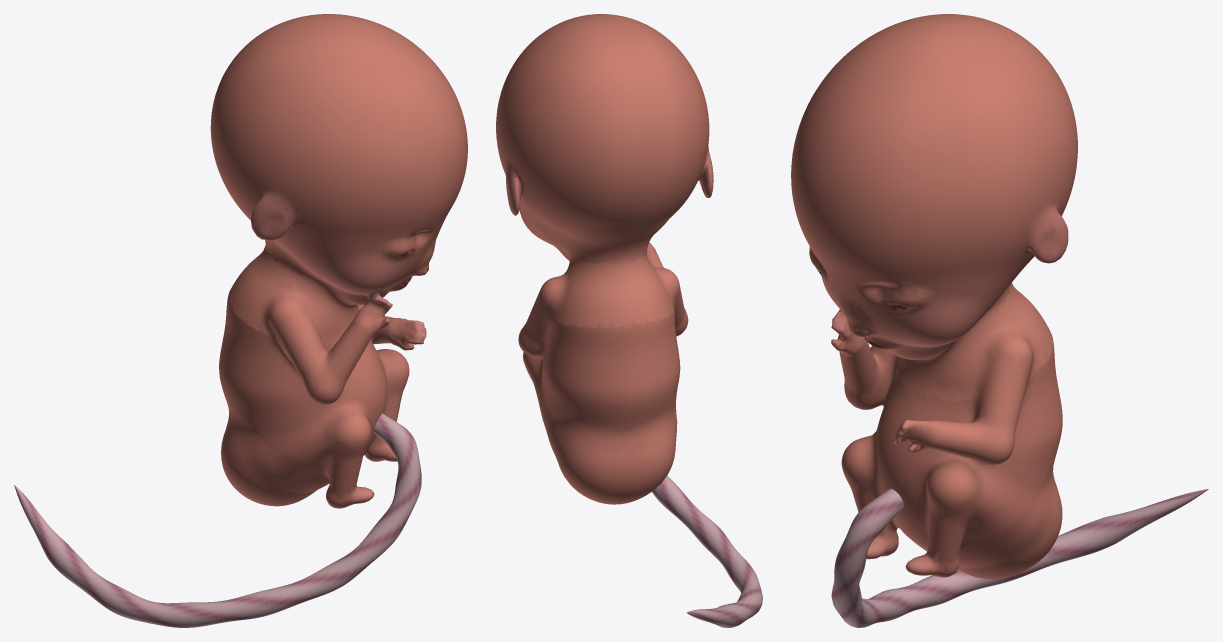
The model's file is week_14.glb.
3 views of the same model, side by side, from view 1: azimuth 30°, elevation 25°; view 2: azimuth 150°, elevation 25°; view 3: azimuth 270°, elevation 25° (orthographic). The views are drawn at different scales.
Visible parts, largest first — view 1: skin, cord; view 2: skin, cord; view 3: skin, cord.
Boxes of the visible parts, left/top/right/bottom form: skin: left=210, top=14, right=467, bottom=508; cord: left=14, top=413, right=421, bottom=627; skin: left=496, top=14, right=713, bottom=504; cord: left=652, top=475, right=762, bottom=627; skin: left=791, top=14, right=1077, bottom=578; cord: left=831, top=488, right=1208, bottom=627.
Size of the model in its own units: 1.79 by 3 by 1.72.
